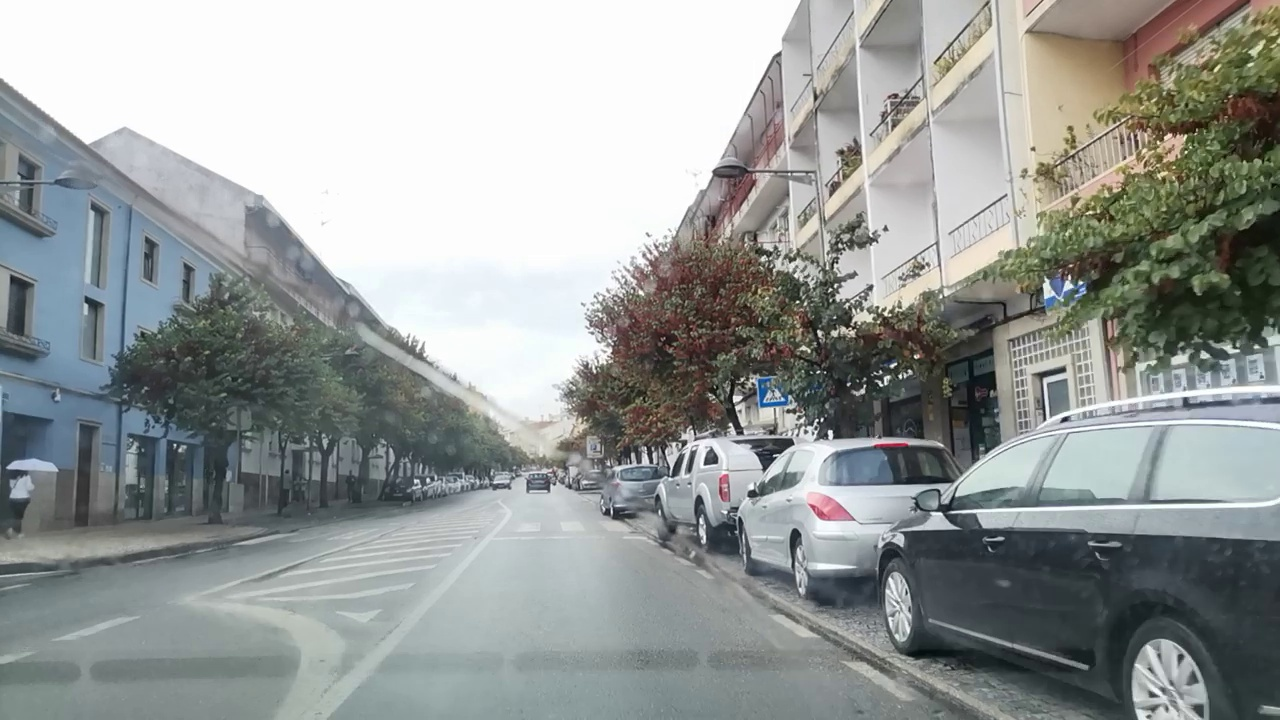Stairs: (239, 522, 374, 546), (514, 518, 627, 537)
